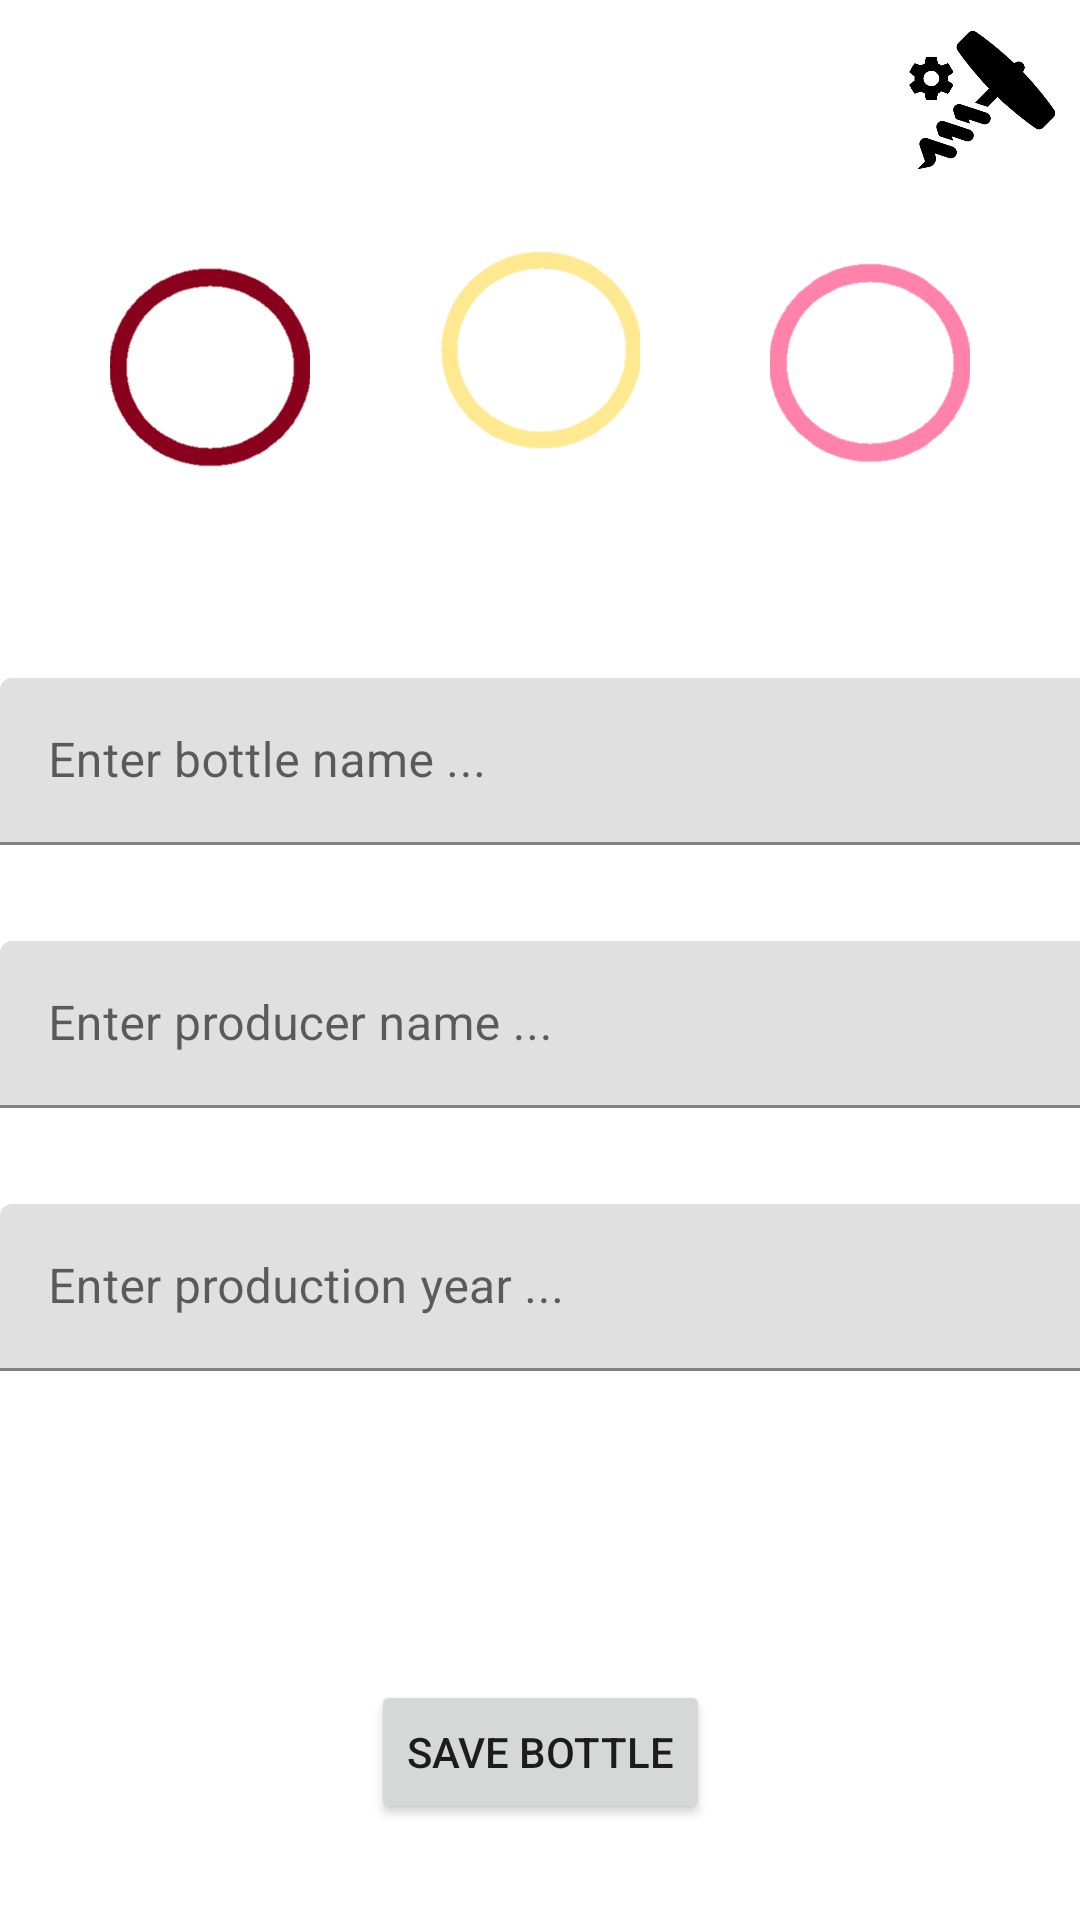

Icons on this 1080w x 1920h Android screen, each with its box as [left=x1, top=y1, right=x2, bottom=y2]:
parameter: [left=909, top=31, right=1055, bottom=169]
